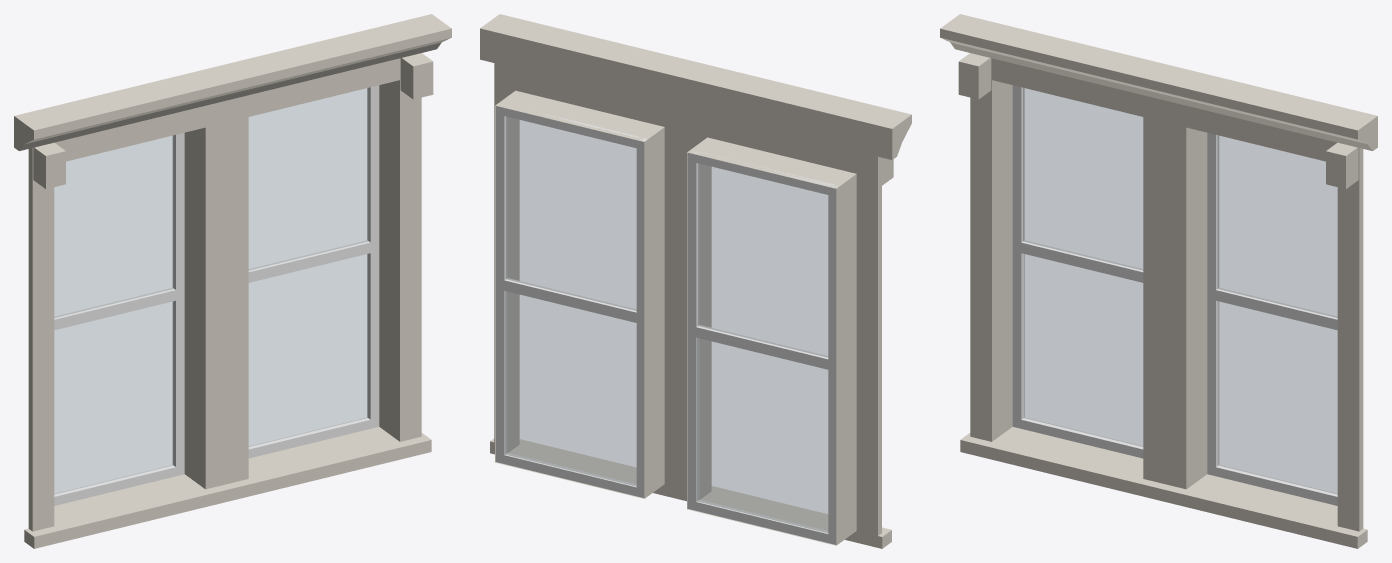
File: win_pair_stone_2.4x2.4.glb
3 renders of one model, left to right at view 1: azimuth 30°, elevation 25°; view 2: azimuth 150°, elevation 25°; view 3: azimuth 330°, elevation 25°, orthographic.
Visible parts, largest first — view 1: win_pair; view 2: win_pair; view 3: win_pair.
Boxes of the visible parts, left/top/right/bottom form: win_pair: left=14, top=14, right=451, bottom=548; win_pair: left=480, top=14, right=911, bottom=548; win_pair: left=940, top=14, right=1377, bottom=548.
Size of the model in its own units: 2.9 by 2.84 by 0.49.
